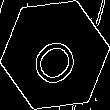O_NE: (24, 22, 86, 88)
